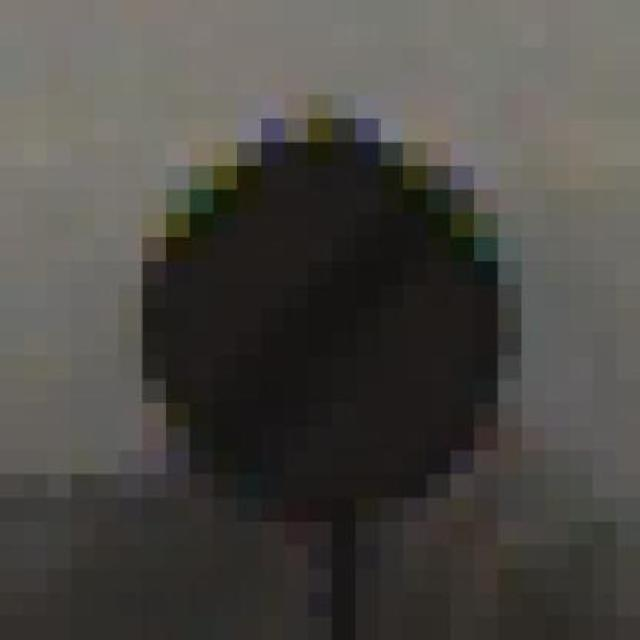End of all speed and passing limits: (142, 118, 546, 545)
